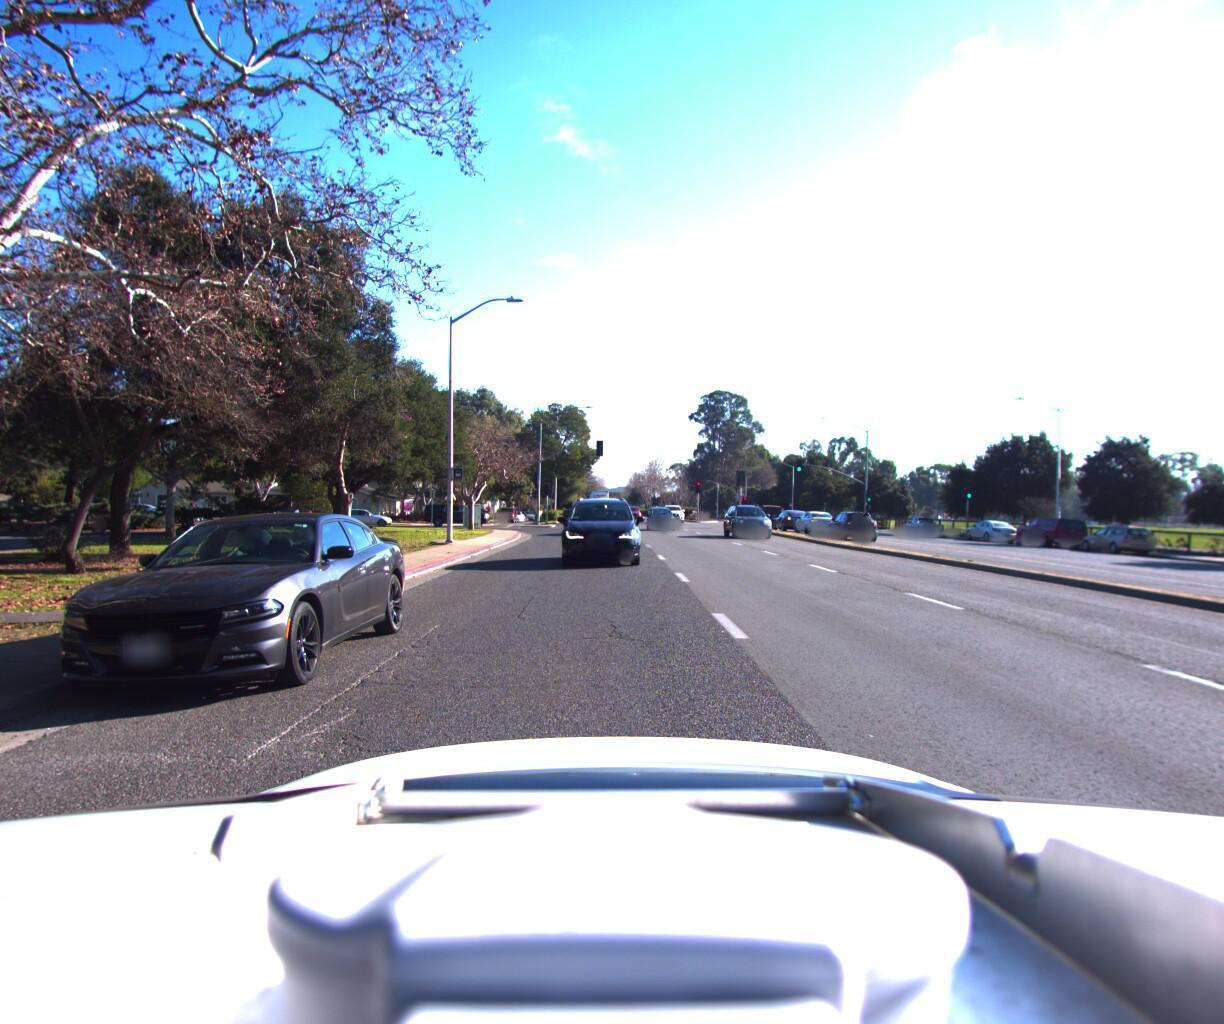car: (2, 501, 431, 725), (553, 495, 642, 580), (1072, 527, 1159, 563), (1008, 520, 1091, 557), (715, 507, 770, 547), (823, 515, 884, 548), (420, 510, 495, 536), (959, 525, 1020, 551), (238, 513, 304, 533), (790, 516, 839, 543), (334, 514, 396, 534), (899, 521, 947, 545), (769, 516, 817, 540), (262, 513, 319, 533), (641, 513, 674, 538), (659, 509, 686, 531)
